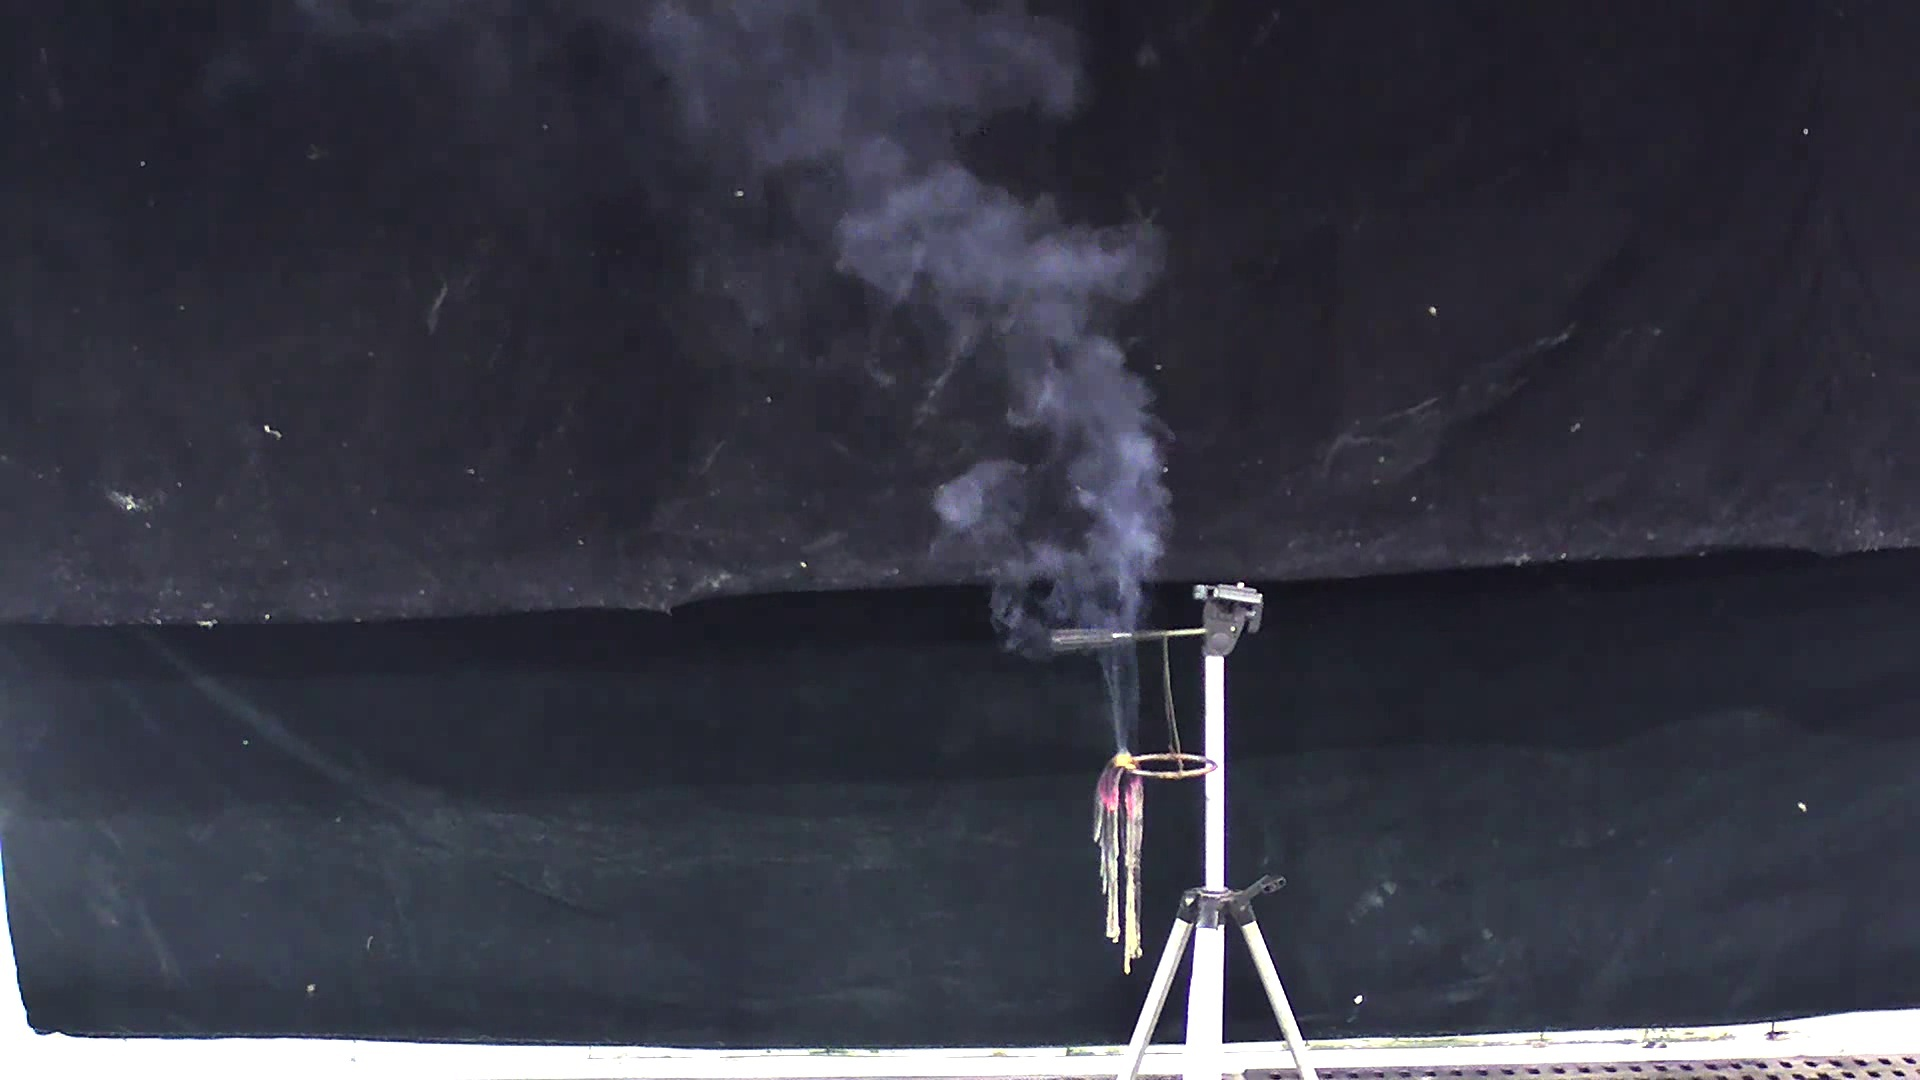smoke: (663, 22, 1182, 757)
